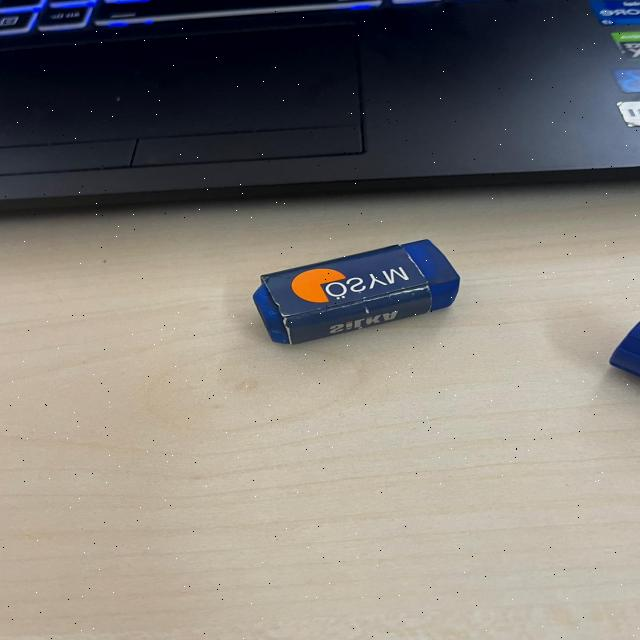eraser: (243, 228, 461, 358)
